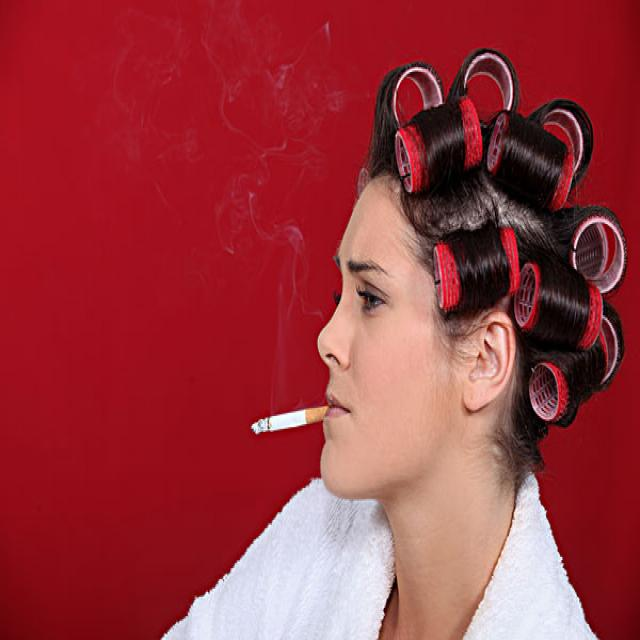smoking: (252, 404, 331, 436)
